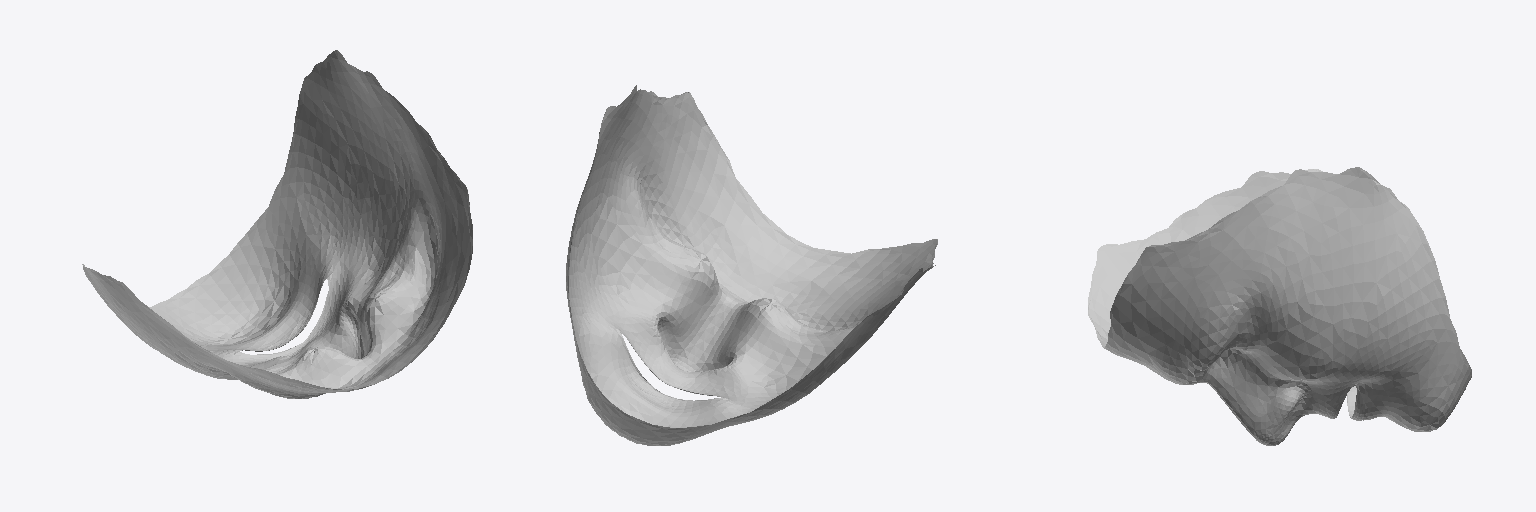
File: face_gab_sfm34.obj
3 views of the same model, side by side, from view 1: azimuth 30°, elevation 25°; view 2: azimuth 150°, elevation 25°; view 3: azimuth 270°, elevation 25° (orthographic).
Bounding box in the file's own units: 164 × 151 × 179.